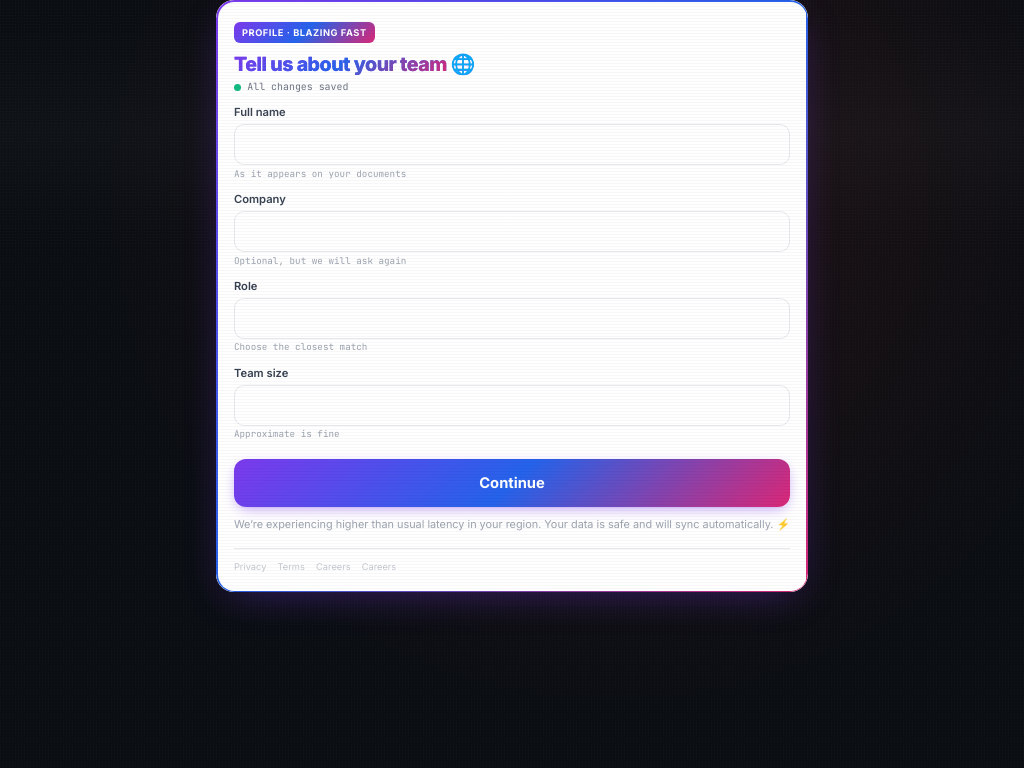
Test: L32 · Network Conditions › never drops a keystroke, however fast they arrive
The width and height of the screenshot is (1024, 768).
Type "a" into the field labelled "Full name" at {"x": 512, "y": 145}, box x1=234 y1=124 x2=790 y2=166
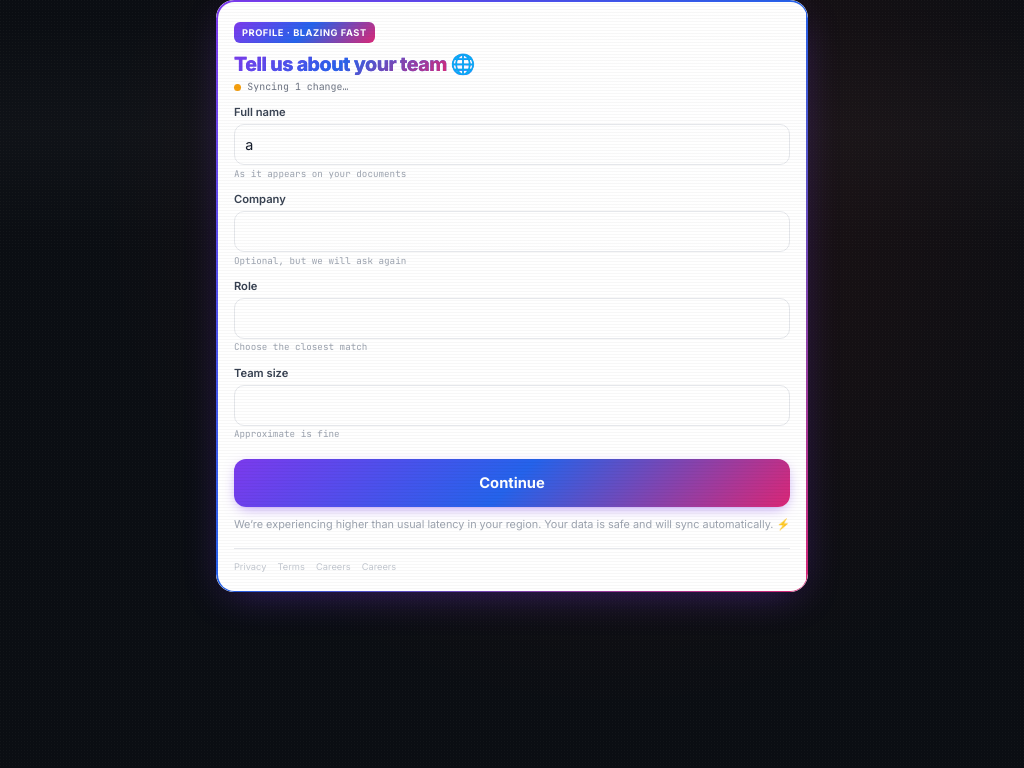
Replace the text in the field labelled "Full name" with "ab" at {"x": 512, "y": 145}, box x1=234 y1=124 x2=790 y2=166
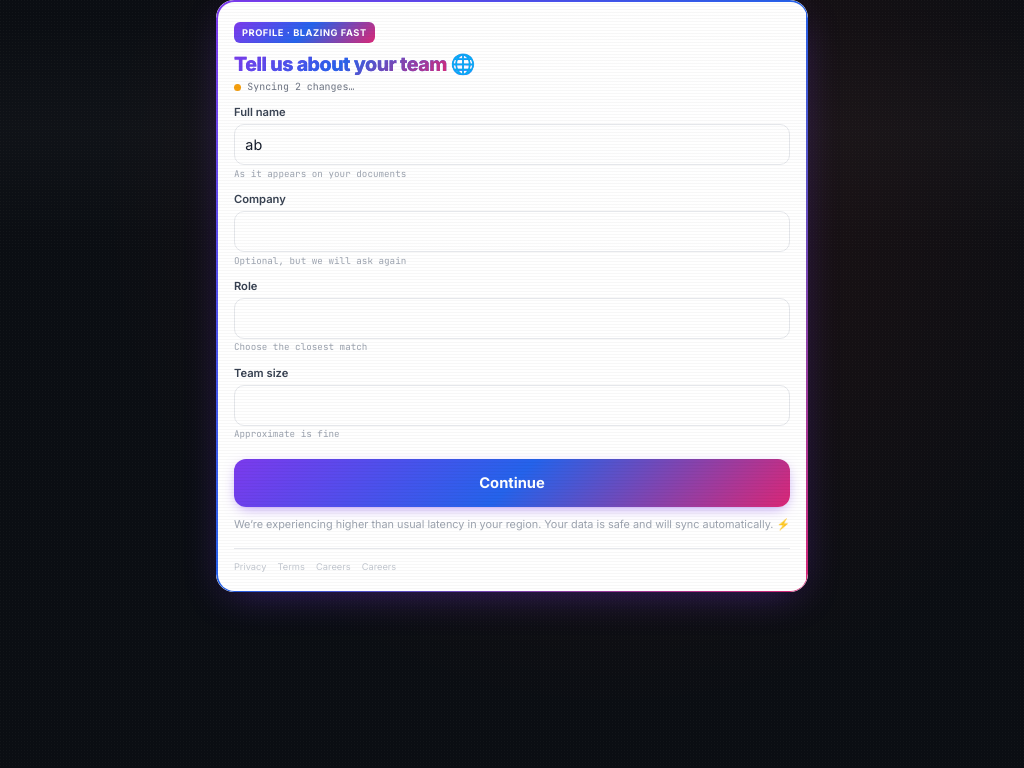
Replace the text in the field labelled "Full name" with "abc" at {"x": 512, "y": 145}, box x1=234 y1=124 x2=790 y2=166
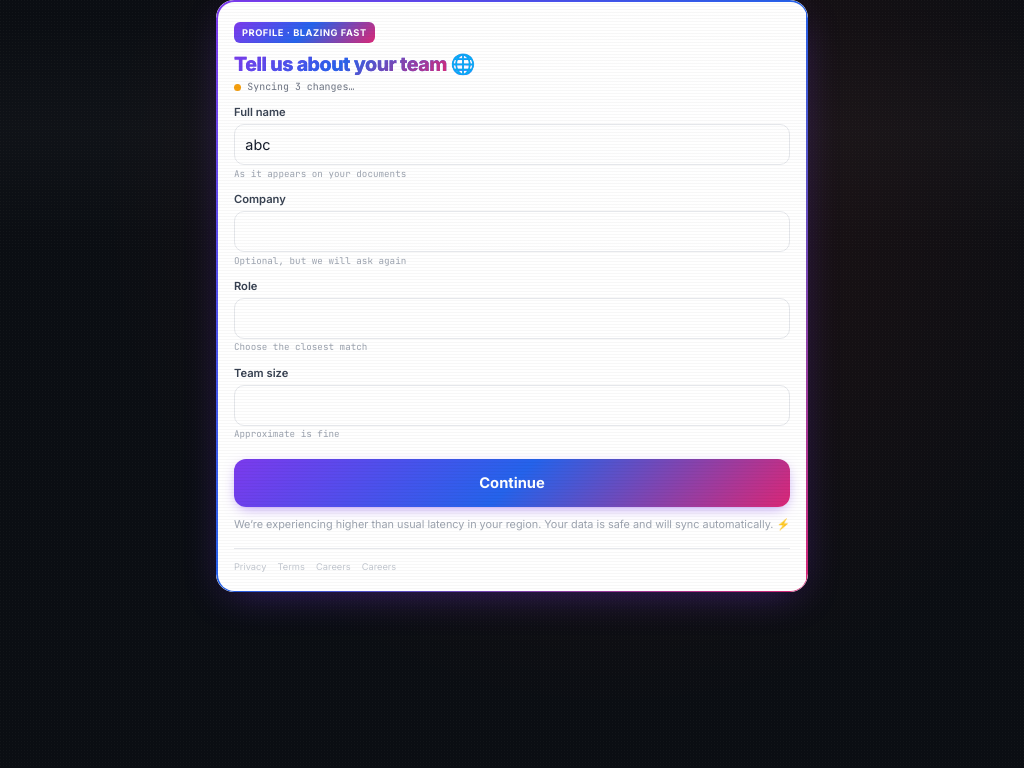
Replace the text in the field labelled "Full name" with "abcd" at {"x": 512, "y": 145}, box x1=234 y1=124 x2=790 y2=166
Wait 1000 ms
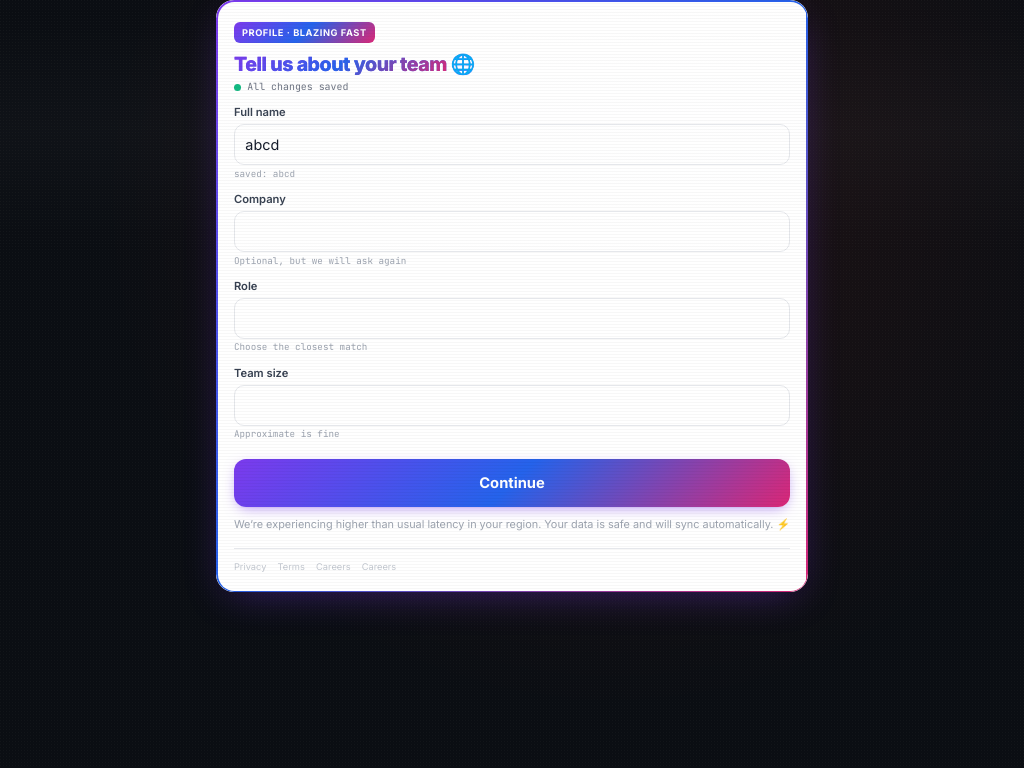
Check: the text "saved: abcd" is shown, box x1=234 y1=168 x2=295 y2=180
